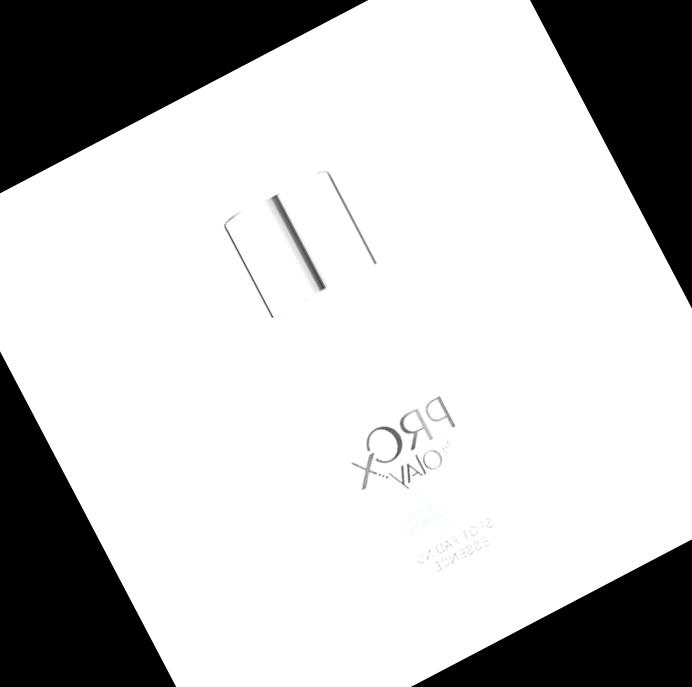cosmetic: (154, 74, 554, 638)
